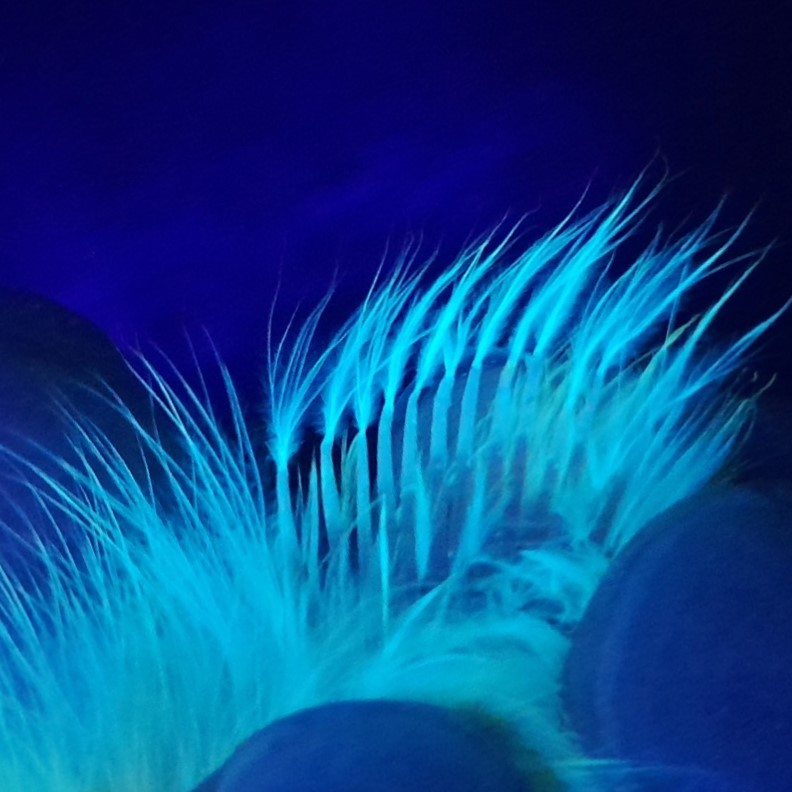male: (230, 336, 669, 651)
